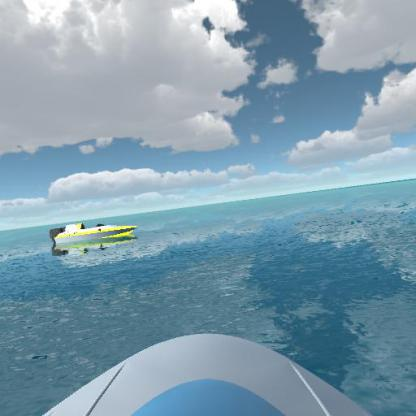usv2: (46, 216, 141, 255)
